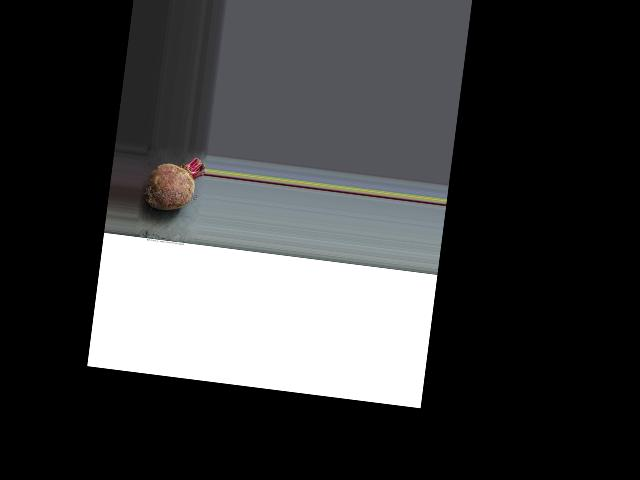beet: (144, 152, 206, 214)
